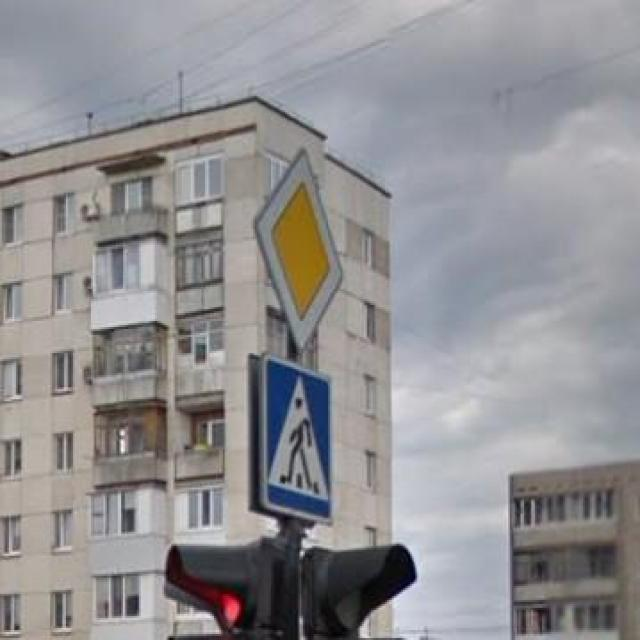traffic_sign: (250, 143, 348, 357), (253, 351, 337, 530)
